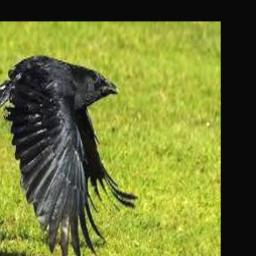Crow: (0, 55, 138, 256)
